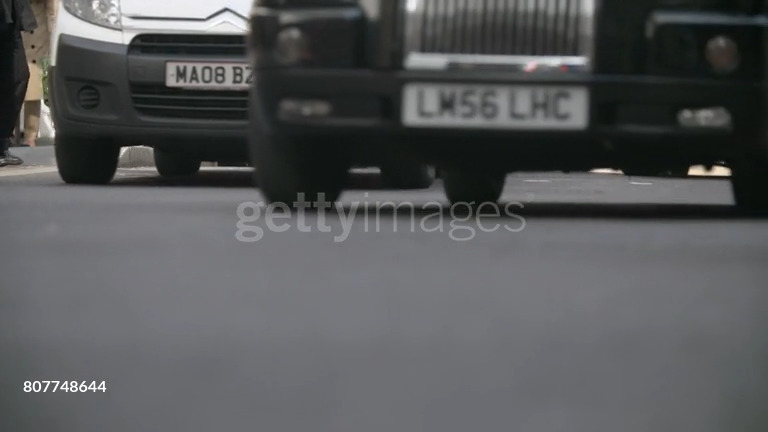car number: (402, 83, 585, 126), (165, 60, 257, 87)
